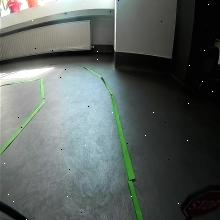stop: (181, 185, 220, 218)
